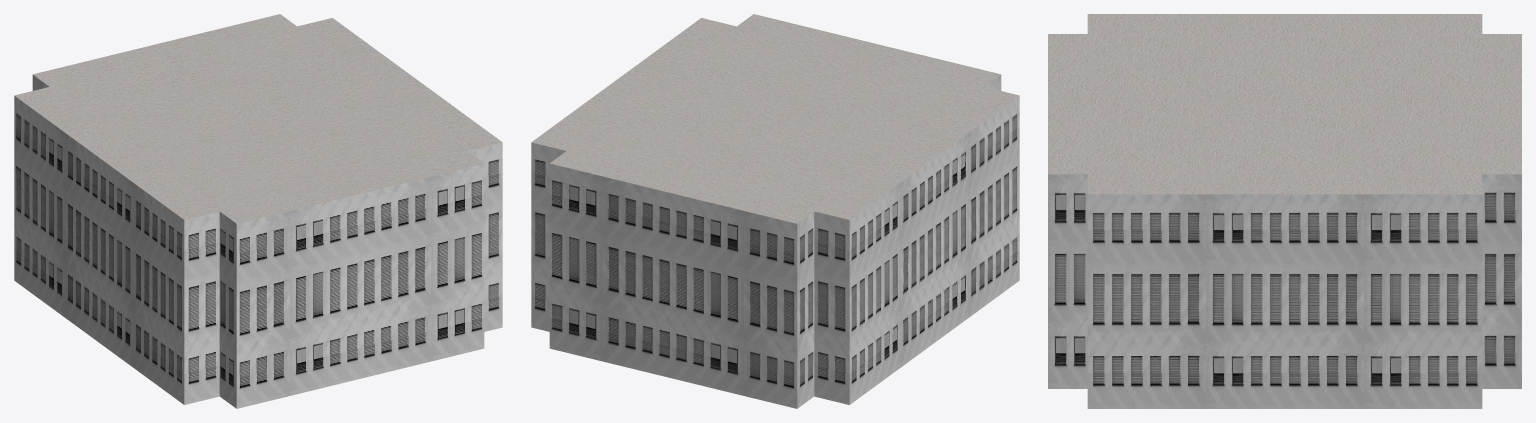
3 renders of one model, left to right at view 1: azimuth 30°, elevation 25°; view 2: azimuth 150°, elevation 25°; view 3: azimuth 270°, elevation 25°, orthographic. The views are drawn at different scales.
Visible parts, largest first — view 1: building1, building1_cell.001, building1_cell; view 2: building1, building1_cell.001, building1_cell; view 3: building1, building1_cell, building1_cell.001.
Boxes of the visible parts, x1,y1,x2,y2 form: building1: [14, 14, 502, 408]; building1_cell.001: [14, 70, 255, 408]; building1_cell: [107, 15, 502, 306]; building1: [531, 14, 1019, 408]; building1_cell.001: [531, 72, 1019, 407]; building1_cell: [531, 14, 980, 307]; building1: [1048, 14, 1521, 408]; building1_cell: [1048, 45, 1521, 385]; building1_cell.001: [1048, 14, 1521, 405].
Size of the model in its own units: 2.03 by 1.13 by 2.25.
2 materials, 2 textured.
